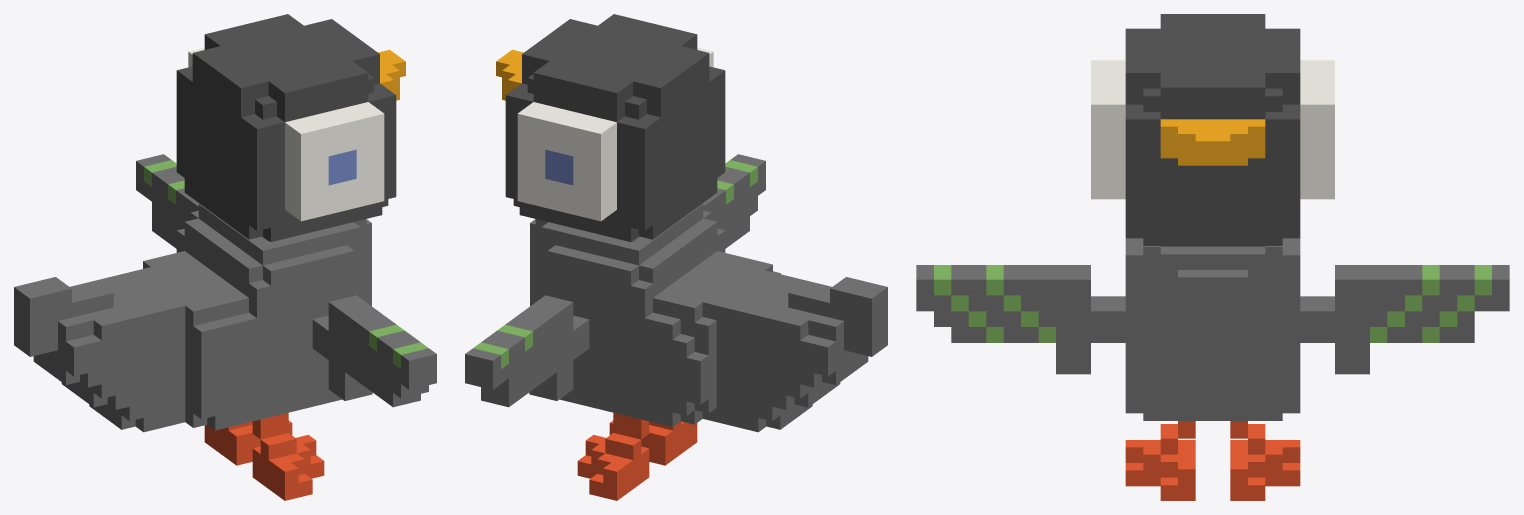
File: bird.obj
The picture shows the model from 3 angles, left to right: view 1: azimuth 30°, elevation 25°; view 2: azimuth 150°, elevation 25°; view 3: azimuth 270°, elevation 25°; orthographic projection. The views are drawn at different scales.
Visible parts, largest first — view 1: birdTpose2; view 2: birdTpose2; view 3: birdTpose2.
Part boxes in pixels (x1,y1,x2,y2): birdTpose2: (14,14,436,500); birdTpose2: (465,14,887,500); birdTpose2: (916,14,1509,500).
Size of the model in its own units: 0.27 by 0.28 by 0.34.
1 material, 1 textured.
